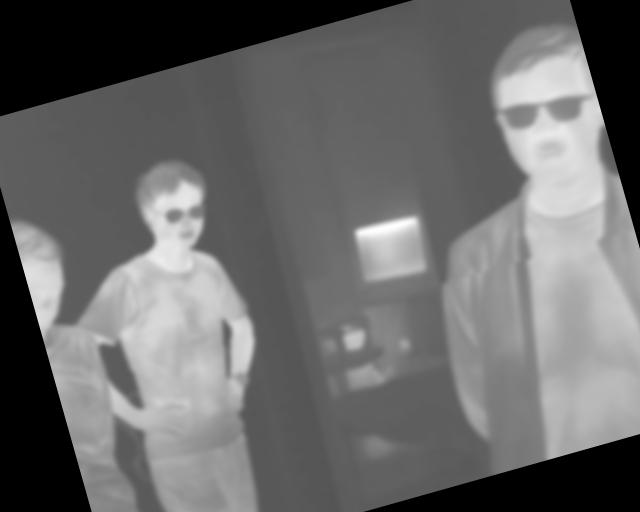face: (472, 14, 616, 194), (126, 150, 221, 260)
